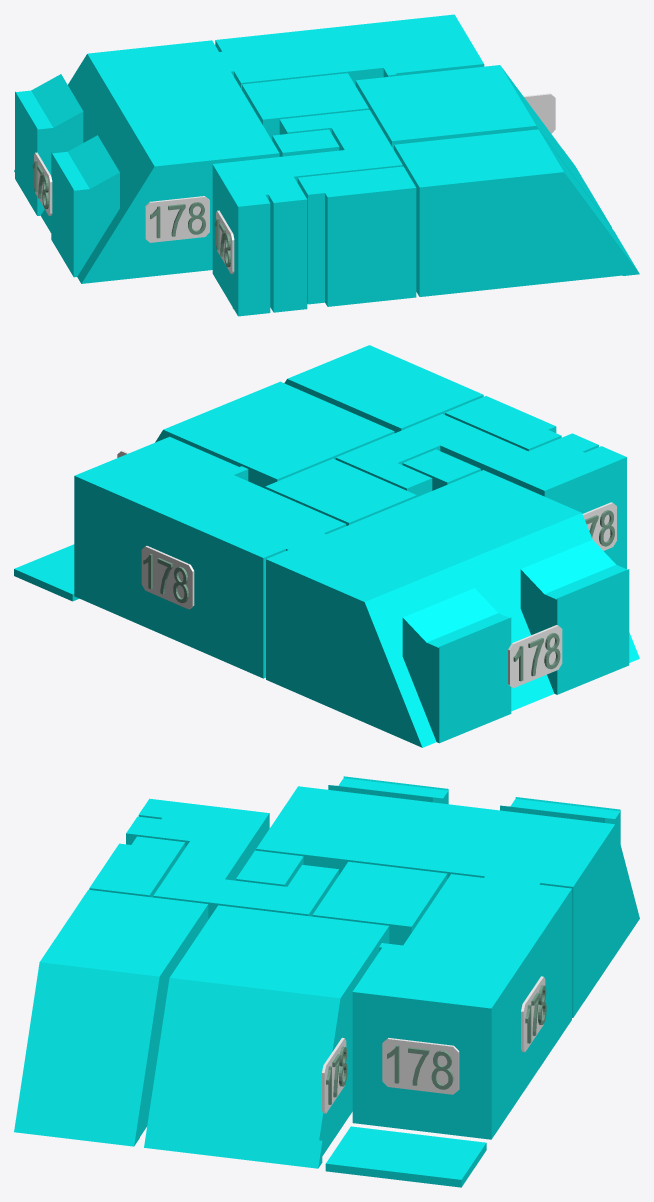
3 renders of one model, top to bottom at view 1: azimuth 30°, elevation 25°; view 2: azimuth 150°, elevation 25°; view 3: azimuth 270°, elevation 25°, orthographic. The views are drawn at different scales.
Parts seen in each view (by area): view 1: g_0, g_3, g_5, g_7, g_1, g_2, g_4, g_24, g_6, g_12, g_16, g_32; view 2: g_0, g_1, g_5, g_2, g_3, g_4, g_7, g_8, g_32, g_20, g_6, g_16; view 3: g_2, g_1, g_0, g_3, g_5, g_8, g_4, g_7, g_28, g_6, g_20, g_12.
Boxes of the visible parts, bbox=[...] form: g_0: bbox=[14, 40, 279, 283]; g_3: bbox=[394, 129, 639, 296]; g_5: bbox=[212, 109, 402, 316]; g_7: bbox=[297, 166, 416, 306]; g_1: bbox=[215, 14, 484, 89]; g_2: bbox=[355, 65, 611, 227]; g_4: bbox=[242, 73, 368, 140]; g_24: bbox=[145, 196, 209, 242]; g_6: bbox=[272, 129, 339, 156]; g_12: bbox=[523, 93, 555, 133]; g_16: bbox=[216, 210, 234, 273]; g_32: bbox=[34, 152, 52, 215]; g_0: bbox=[266, 470, 639, 747]; g_1: bbox=[74, 436, 346, 678]; g_5: bbox=[335, 414, 626, 568]; g_2: bbox=[155, 381, 394, 488]; g_3: bbox=[284, 345, 483, 432]; g_4: bbox=[265, 458, 416, 525]; g_7: bbox=[445, 396, 561, 451]; g_8: bbox=[14, 544, 79, 601]; g_32: bbox=[508, 625, 562, 687]; g_20: bbox=[141, 546, 194, 609]; g_6: bbox=[402, 449, 480, 490]; g_16: bbox=[582, 502, 616, 550]; g_2: bbox=[144, 905, 389, 1168]; g_1: bbox=[352, 874, 571, 1139]; g_0: bbox=[256, 776, 639, 1017]; g_3: bbox=[14, 889, 208, 1146]; g_5: bbox=[126, 798, 338, 919]; g_8: bbox=[325, 1126, 486, 1187]; g_4: bbox=[312, 861, 447, 945]; g_7: bbox=[89, 836, 185, 897]; g_28: bbox=[382, 1038, 459, 1094]; g_6: bbox=[236, 850, 303, 886]; g_20: bbox=[521, 976, 545, 1052]; g_12: bbox=[322, 1037, 346, 1113].
Size of the model in its own units: 12.42 by 2.71 by 11.01.
